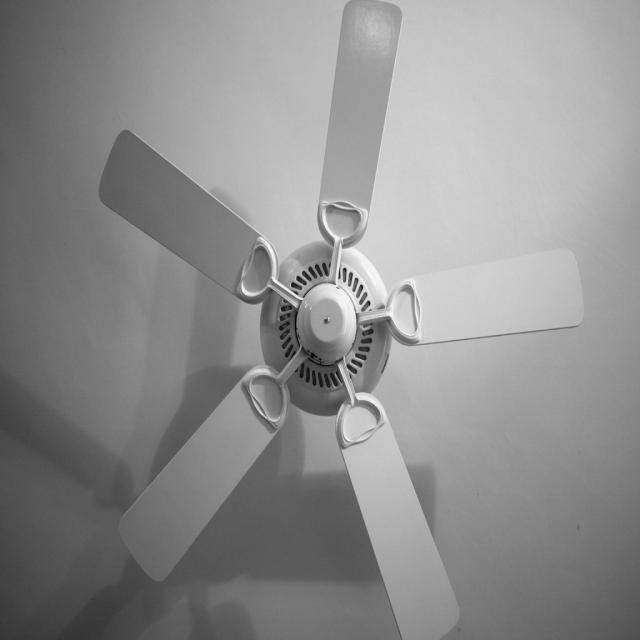fan_off: (97, 0, 593, 640)
